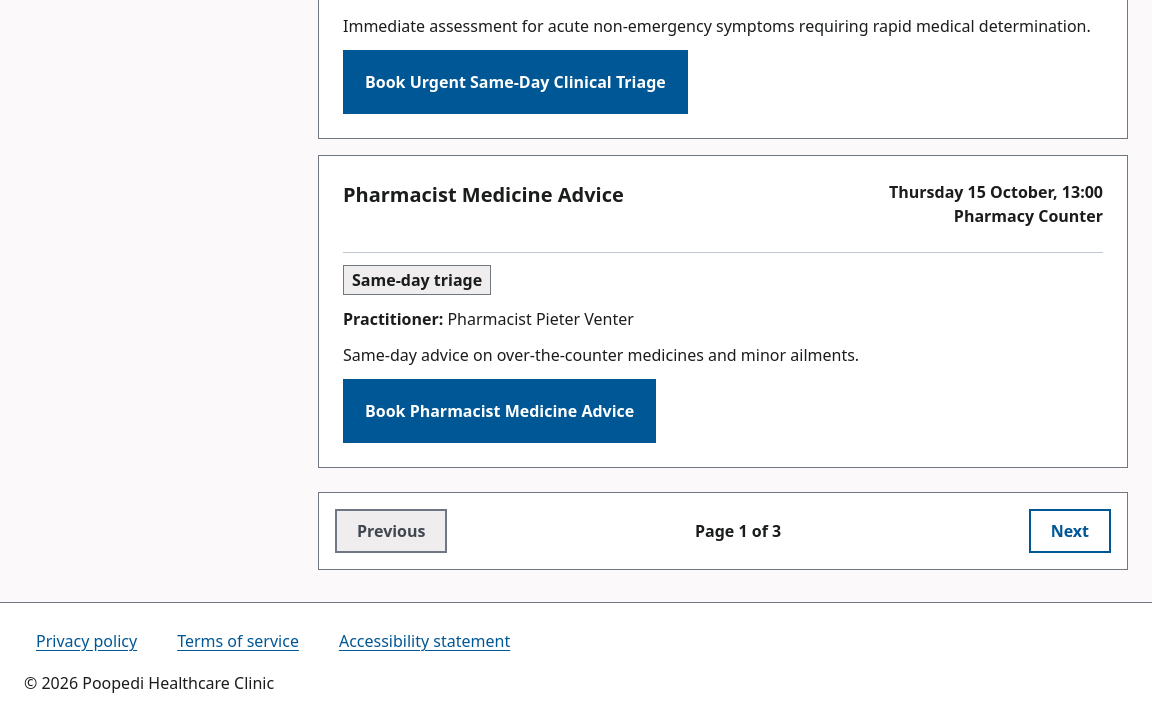
Test: ServicesPage › moves focus to the results heading and announces the page on pagination
The image size is (1152, 711).
(page scrolled)
Click the button "Next".
click(1070, 531)  # box 1029,509 -> 1111,553
(page scrolled)
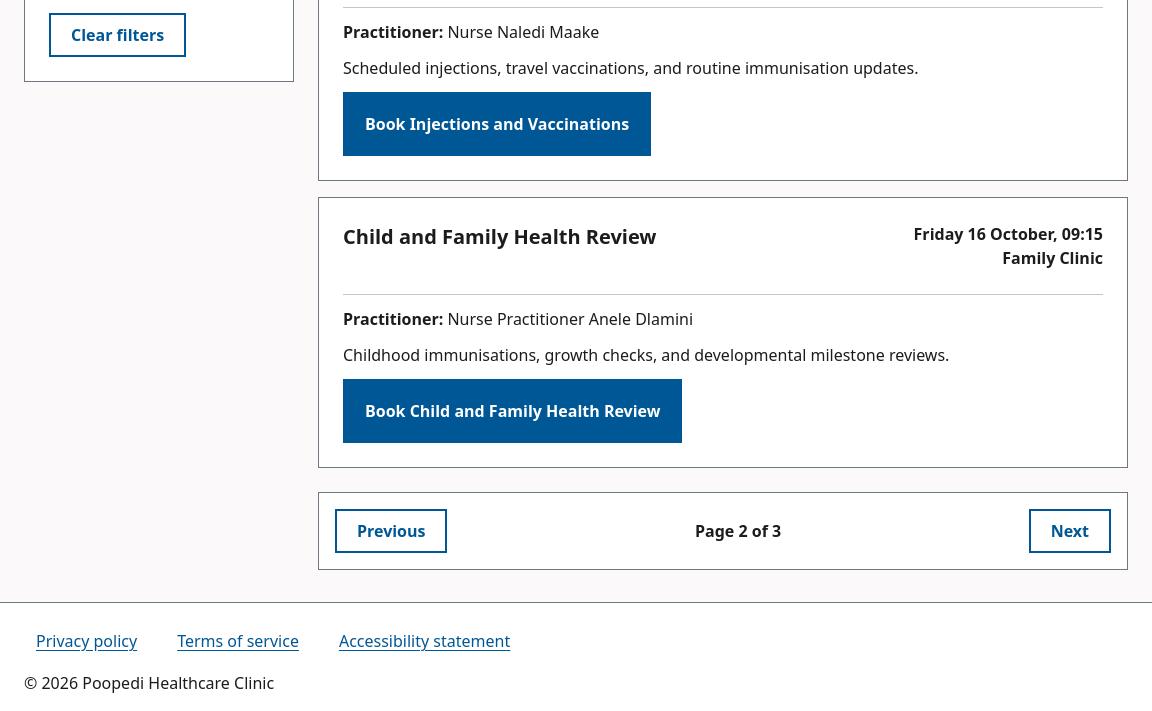
Expected: the text "Page 2 of 3" is shown, 695,519 -> 781,543
Expected: the button "Previous" is enabled, 335,509 -> 448,553
